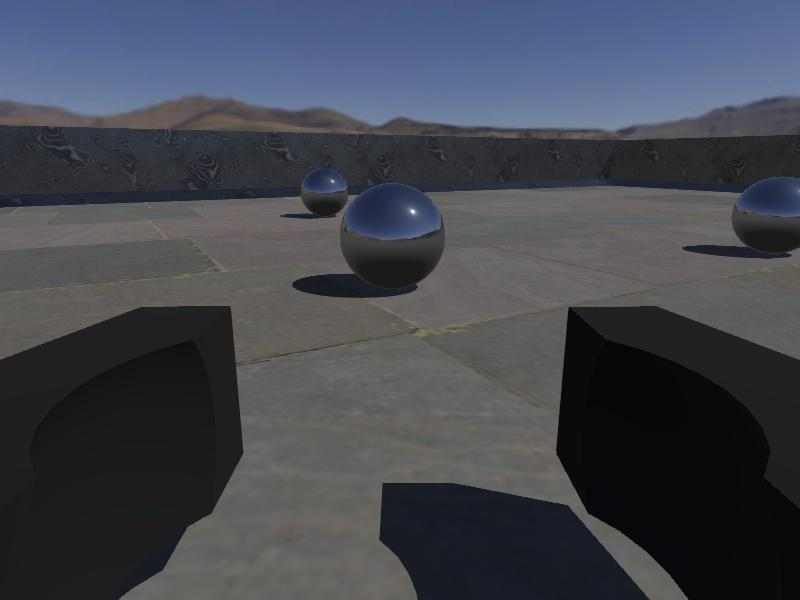steel ball: (339, 182, 446, 290), (300, 168, 350, 218)
